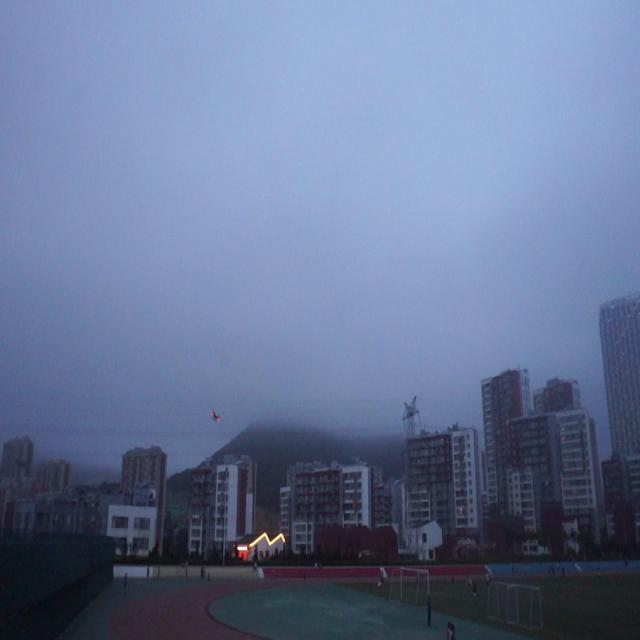UAV: (211, 408, 220, 424)
